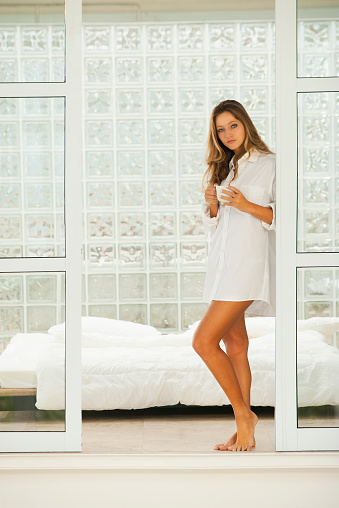em pe: (172, 87, 278, 445)
